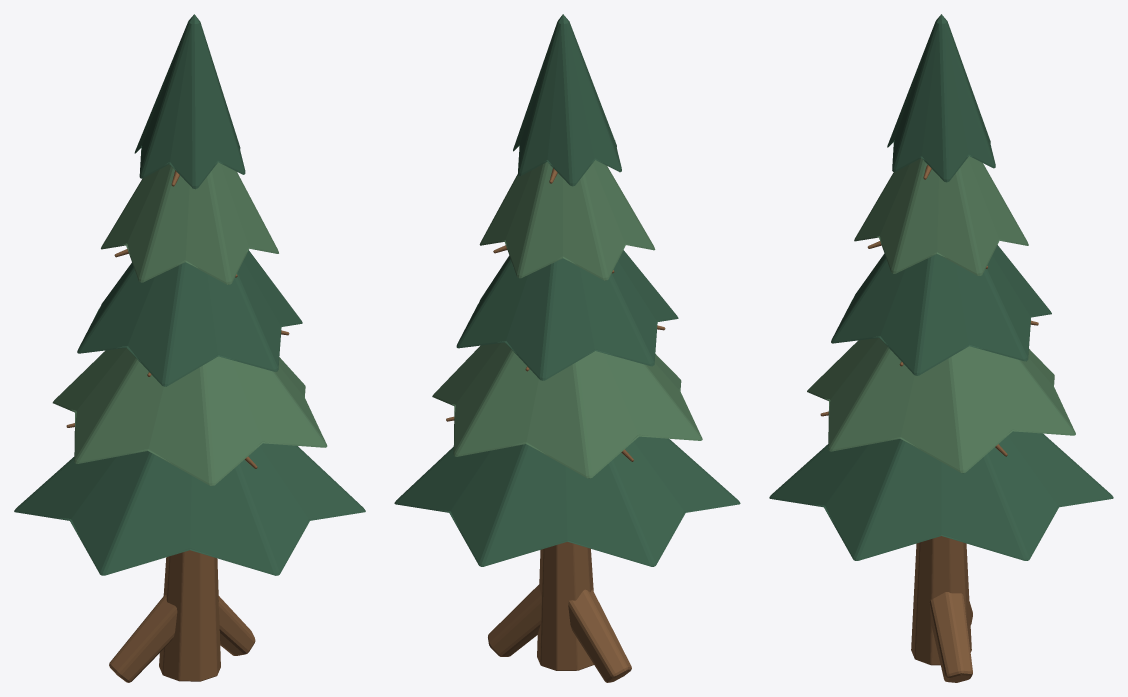
Rendered from pine_tree.glb.
3 renders of one model, left to right at view 1: azimuth 30°, elevation 25°; view 2: azimuth 150°, elevation 25°; view 3: azimuth 270°, elevation 25°, orthographic. The views are drawn at different scales.
Visible parts, largest first — view 1: NeedleBough.002, NeedleBough.003, PineTrunk.001; view 2: NeedleBough.002, NeedleBough.003, PineTrunk.001; view 3: NeedleBough.002, NeedleBough.003, PineTrunk.001.
Part boxes in pixels (x1,y1,x2,y2): NeedleBough.002: [14, 14, 365, 575]; NeedleBough.003: [52, 162, 327, 485]; PineTrunk.001: [66, 170, 289, 682]; NeedleBough.002: [394, 14, 740, 566]; NeedleBough.003: [432, 160, 702, 478]; PineTrunk.001: [446, 168, 665, 682]; NeedleBough.002: [769, 14, 1113, 560]; NeedleBough.003: [807, 156, 1075, 473]; PineTrunk.001: [820, 165, 1038, 682].
Size of the model in its own units: 2.22 by 5.27 by 2.55.
